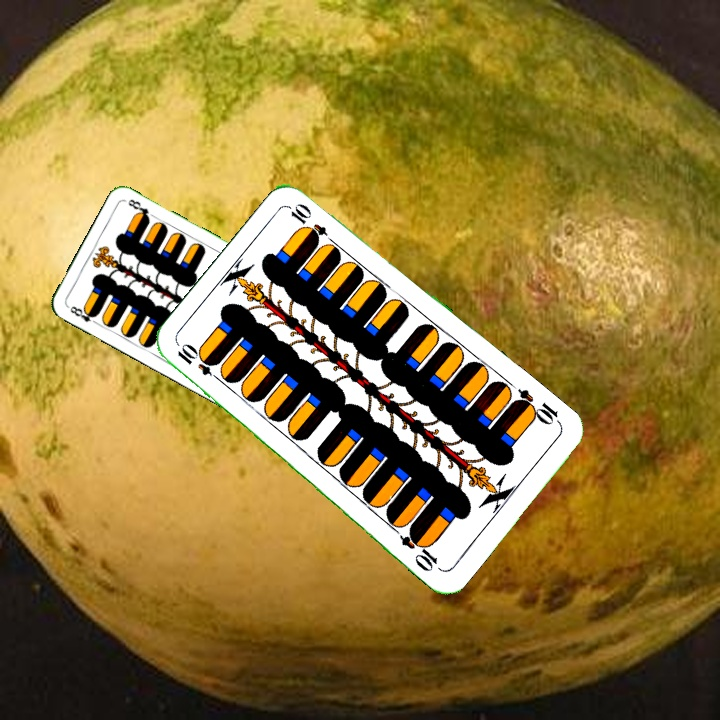E10: (509, 385, 564, 429), (173, 340, 226, 385)
E8: (64, 302, 101, 327)
